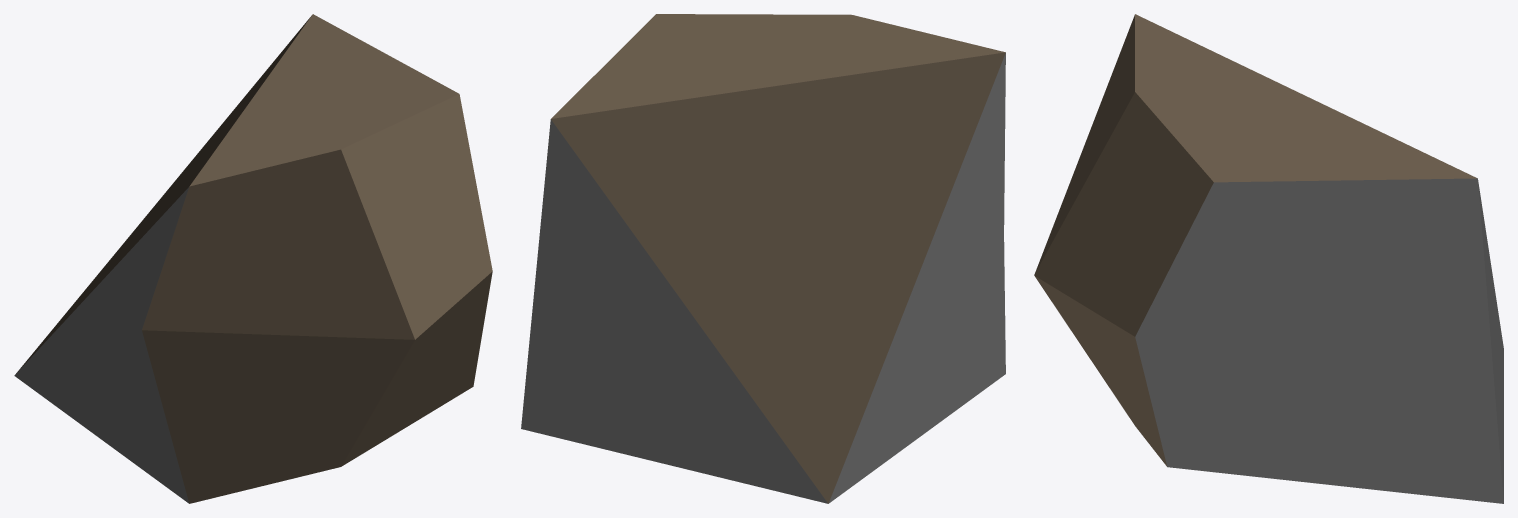
The model's file is rock 3.fbx.
3 renders of one model, left to right at view 1: azimuth 30°, elevation 25°; view 2: azimuth 150°, elevation 25°; view 3: azimuth 270°, elevation 25°, orthographic. The views are drawn at different scales.
Visible parts, largest first — view 1: rock 3; view 2: rock 3; view 3: rock 3.
Part boxes in pixels (x1=…): rock 3: x1=14, y1=14, x2=492, y2=503; rock 3: x1=521, y1=14, x2=1005, y2=503; rock 3: x1=1034, y1=14, x2=1503, y2=503.
Size of the model in its own units: 266 by 244 by 311.
